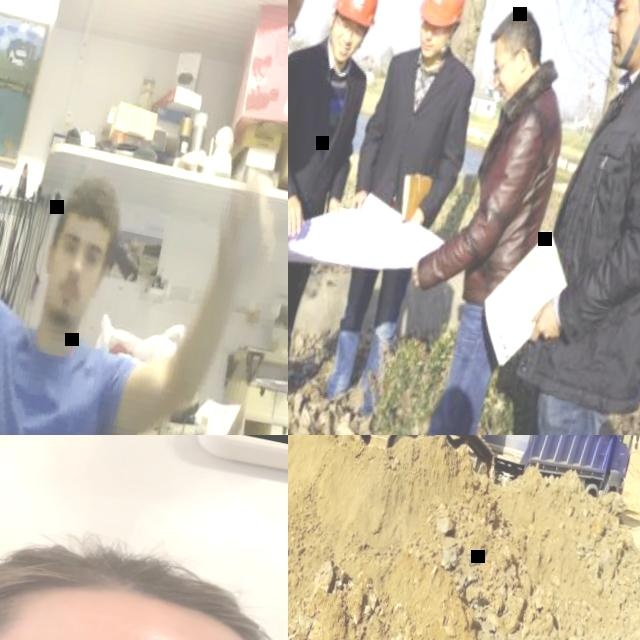Hardhat: (417, 0, 473, 32), (328, 0, 386, 30)
NO-Hardhat: (0, 511, 284, 640), (66, 175, 128, 237), (490, 4, 544, 49)
NO-Mask: (44, 275, 91, 330), (605, 10, 640, 74), (495, 64, 525, 106), (325, 35, 357, 67), (417, 36, 446, 63)
NO-Safety Vest: (536, 63, 640, 380), (461, 93, 569, 303), (366, 54, 468, 217), (288, 49, 363, 220), (0, 332, 121, 435)
Person: (0, 39, 288, 435), (374, 0, 587, 435), (304, 0, 504, 423), (493, 0, 640, 435), (0, 475, 288, 640), (288, 0, 391, 434)
machinery: (288, 435, 632, 494), (471, 435, 640, 506)
